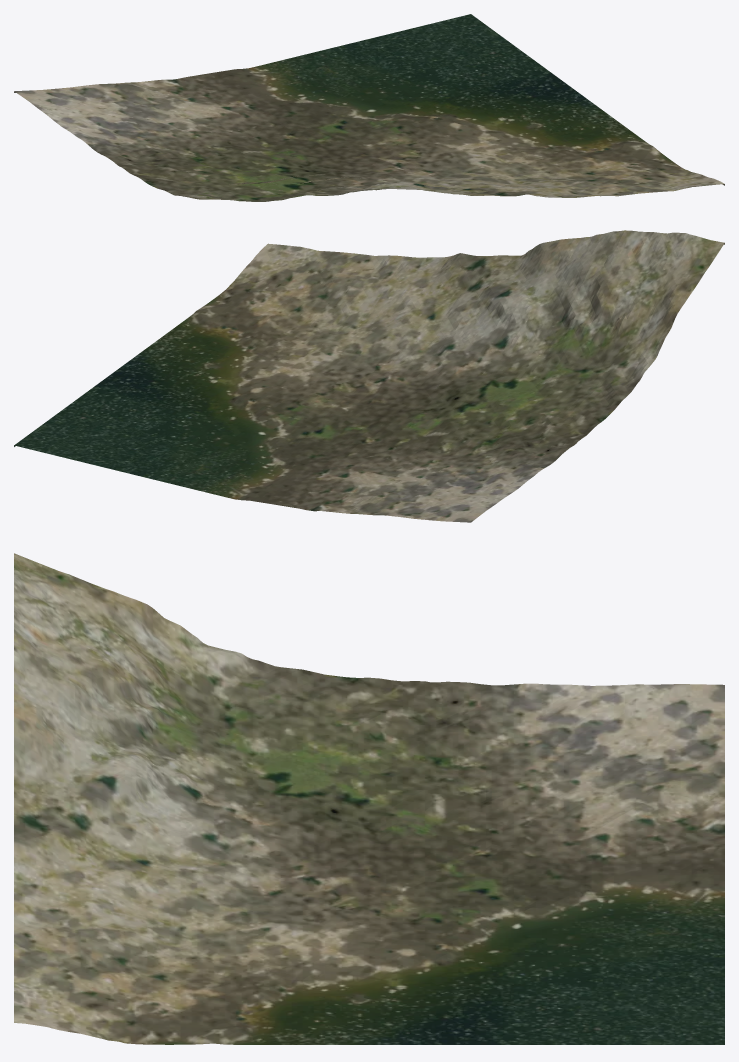
3 views of the same model, one above another, from view 1: azimuth 30°, elevation 25°; view 2: azimuth 150°, elevation 25°; view 3: azimuth 270°, elevation 25° (orthographic). The views are drawn at different scales.
Bounding box in the file's own units: 250 × 68.3 × 241.
Materials: 1 (1 with a texture image).
